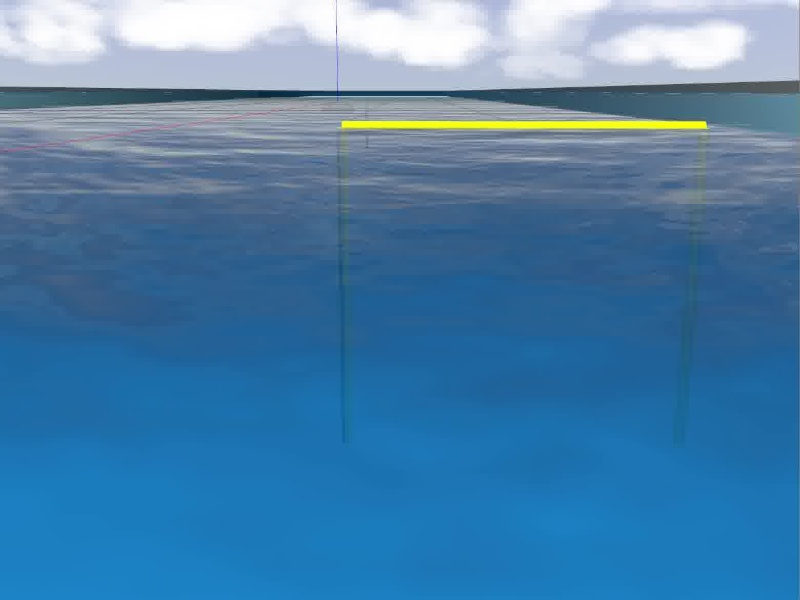gate: (336, 118, 711, 454)
